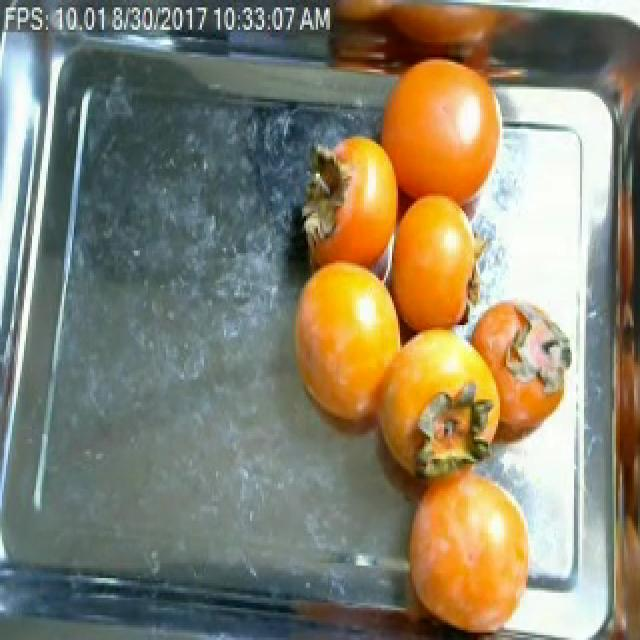Fruit: (386, 444, 548, 640), (464, 290, 538, 387)
